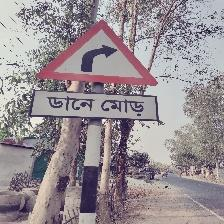Right-turn: (31, 19, 161, 124)
